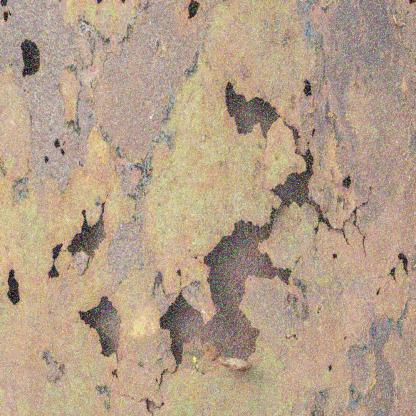burst: (143, 193, 336, 372), (211, 76, 290, 153), (60, 201, 120, 262), (80, 297, 133, 364)
